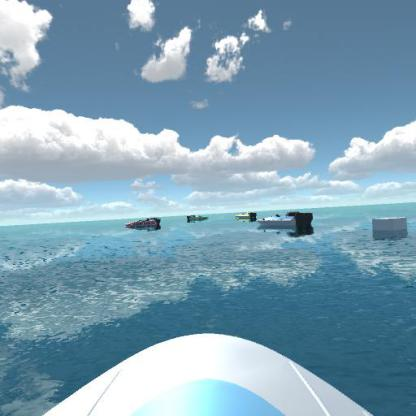usv0: (186, 210, 210, 224)
usv1: (257, 210, 317, 238)
usv2: (235, 209, 258, 224)
usv3: (124, 213, 165, 232)
